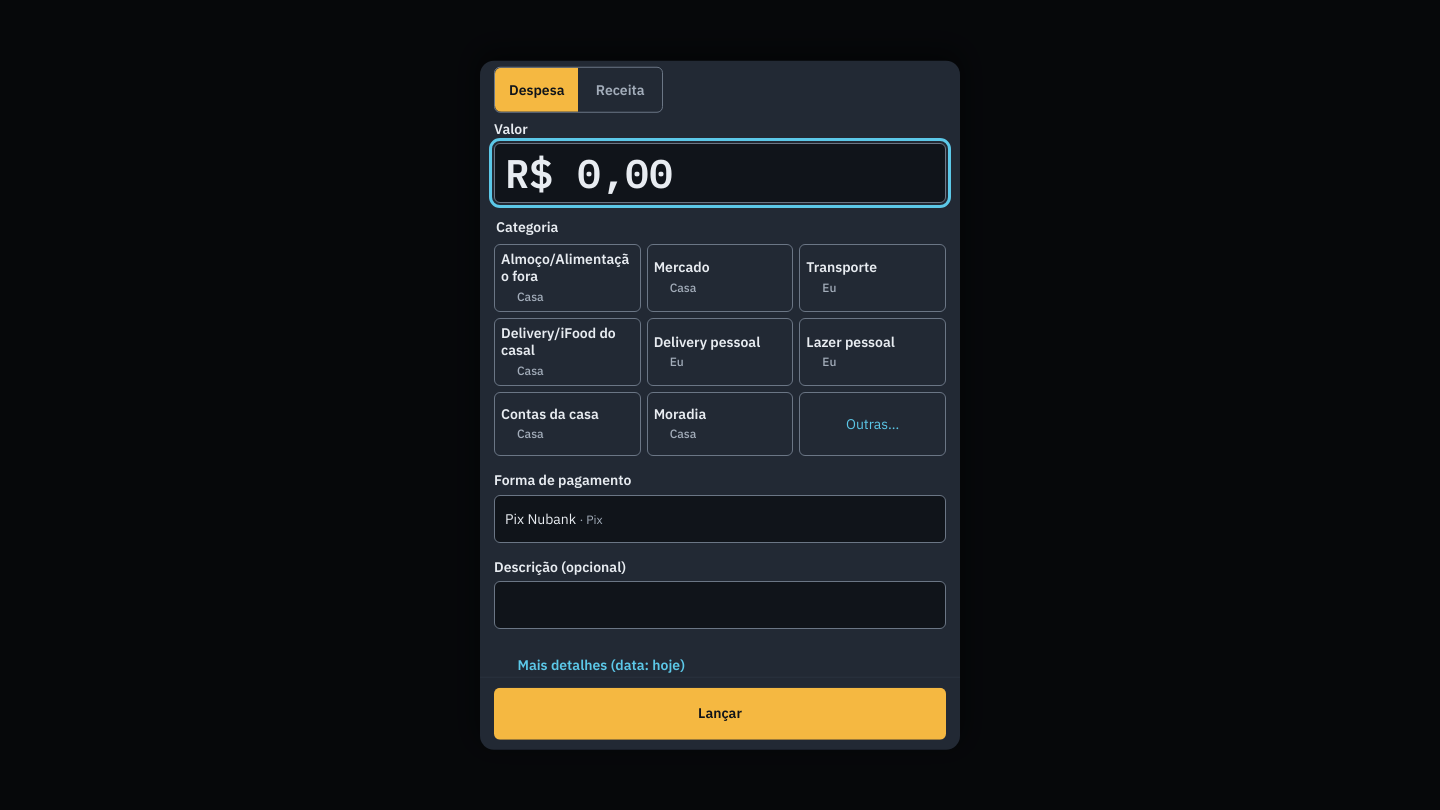
FolhaLancar no modo receita › ao marcar Receita, o título oculto passa a "Lançar receita"
Click the radio button labelled "Receita": click(620, 90) [596,81,644,99]
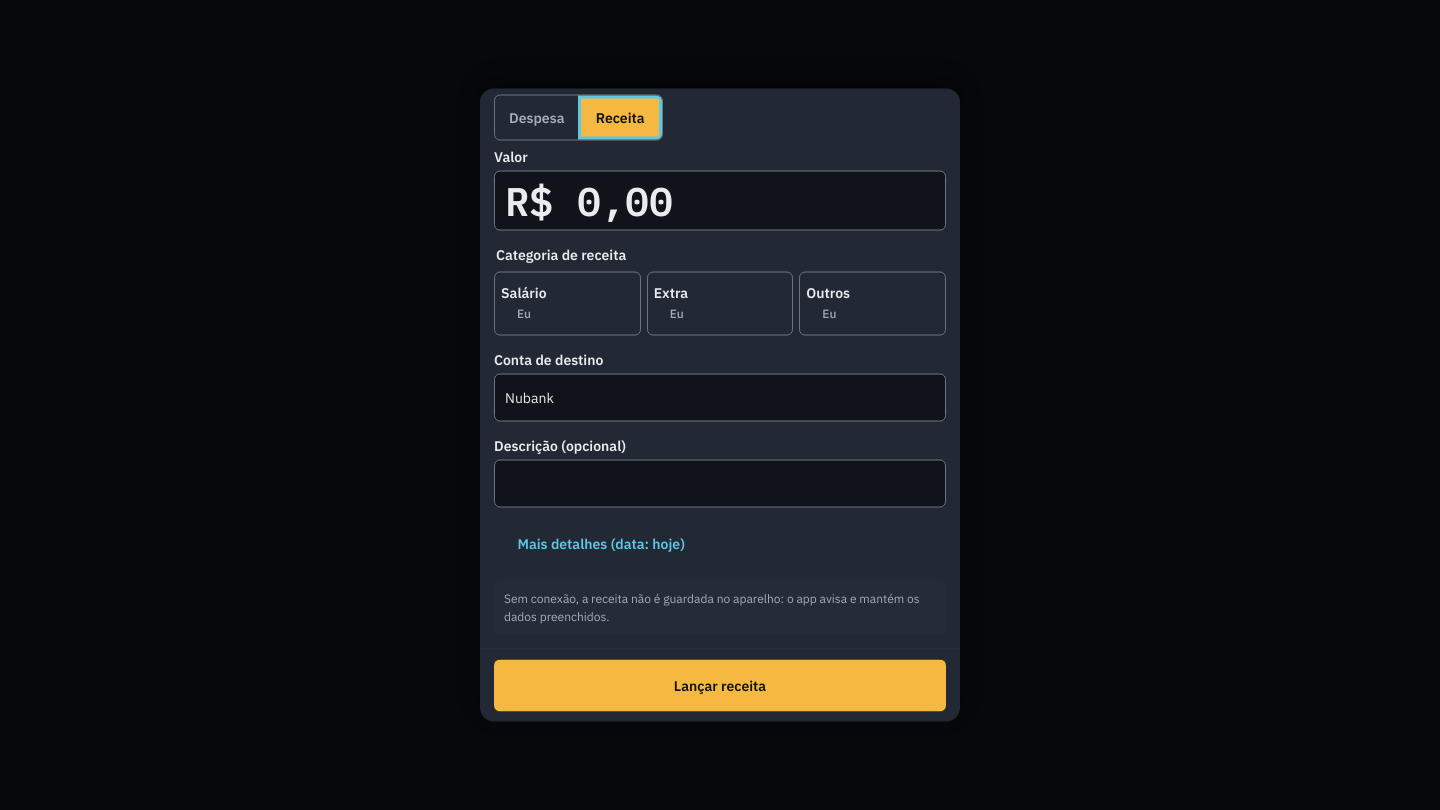
Check: the dialog named "Lançar receita" is shown, box [480,88,960,722]
